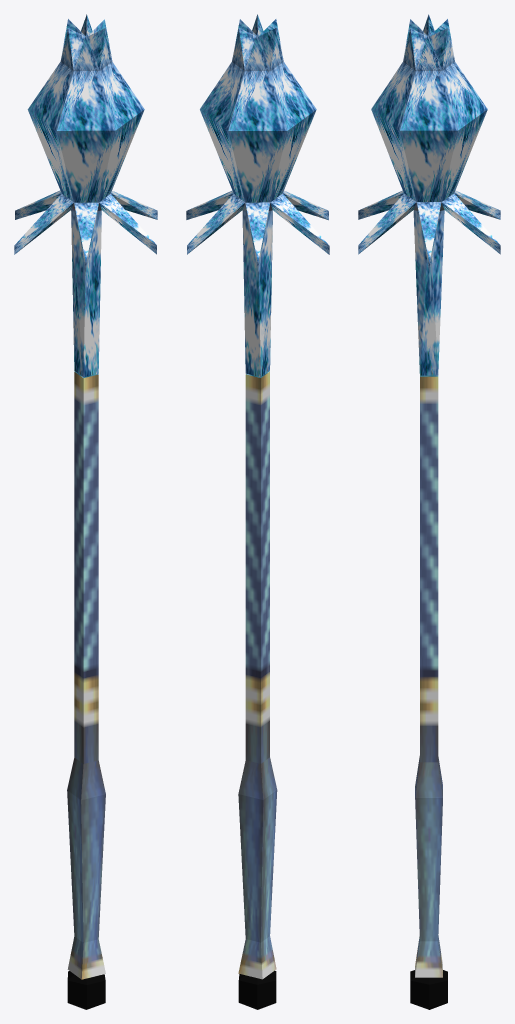
File: wavemaster01_2.obj
The picture shows the model from 3 angles, left to right: view 1: azimuth 30°, elevation 25°; view 2: azimuth 150°, elevation 25°; view 3: azimuth 270°, elevation 25°; orthographic projection.
Parts seen in each view (by area): view 1: wavemaster01_2; view 2: wavemaster01_2; view 3: wavemaster01_2.
Part boxes in pixels (x1,y1,x2,y2): wavemaster01_2: (14,14,157,1009); wavemaster01_2: (186,14,329,1009); wavemaster01_2: (358,14,500,1009).
Size of the model in its own units: 0.2587 by 1.7 by 0.2224.
